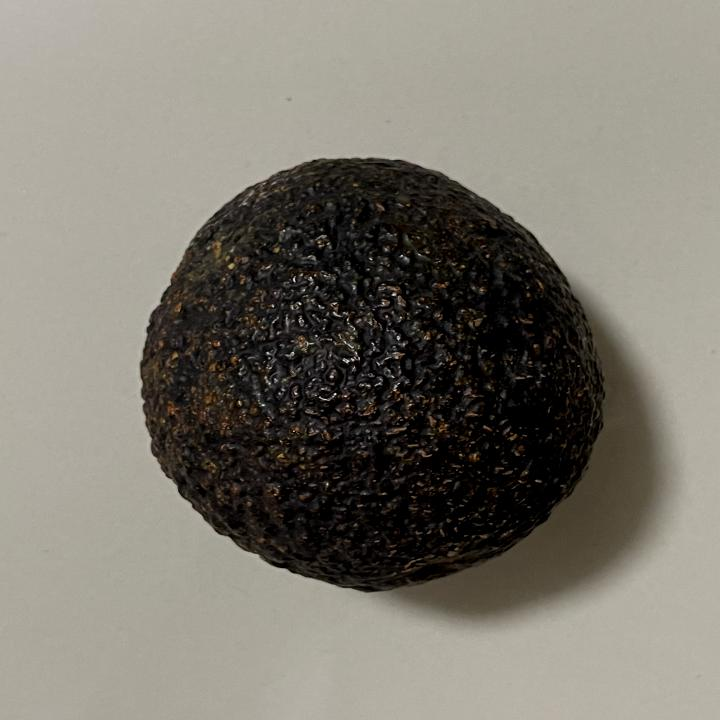Level1: (127, 144, 618, 600)
